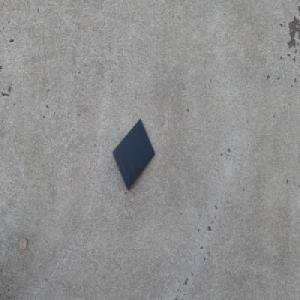PlasticPart: (112, 118, 155, 192)
